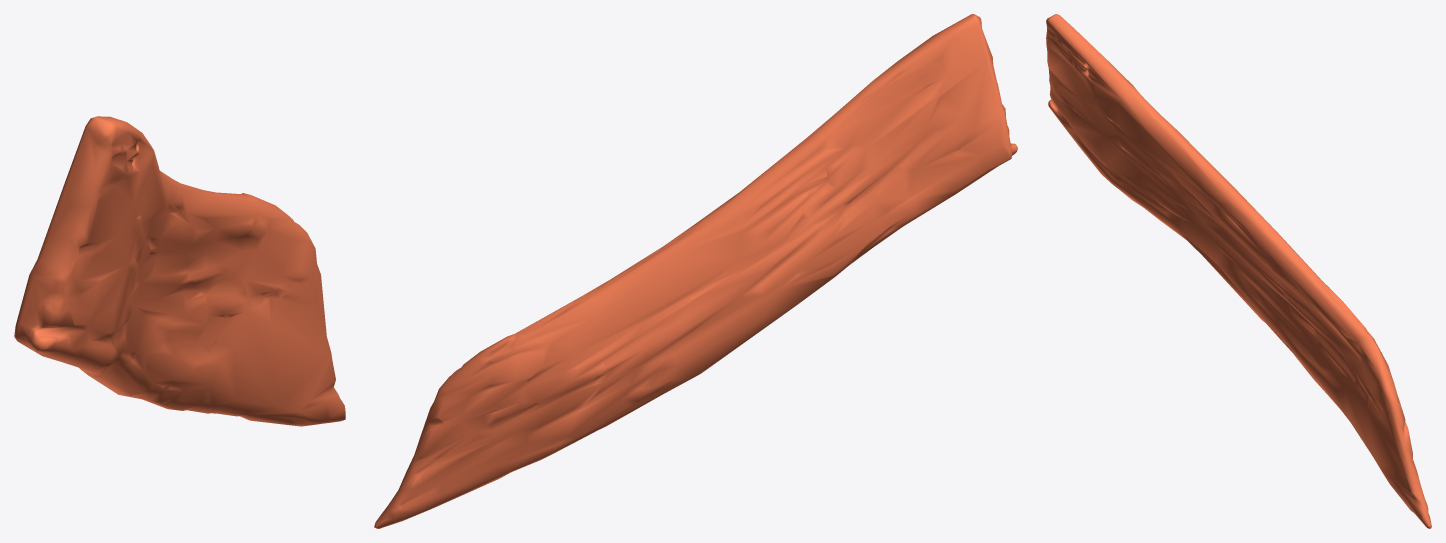
File: Teres_major_muscle.r_Generated_Mesh_From_X3D.160.glb
3 renders of one model, left to right at view 1: azimuth 30°, elevation 25°; view 2: azimuth 150°, elevation 25°; view 3: azimuth 270°, elevation 25°, orthographic. The views are drawn at different scales.
Visible parts, largest first — view 1: Teres_major_muscle.r_Generated_Mesh_From_X3D.160; view 2: Teres_major_muscle.r_Generated_Mesh_From_X3D.160; view 3: Teres_major_muscle.r_Generated_Mesh_From_X3D.160.
Part boxes in pixels (x1=…): Teres_major_muscle.r_Generated_Mesh_From_X3D.160: x1=14, y1=116, x2=345, y2=426; Teres_major_muscle.r_Generated_Mesh_From_X3D.160: x1=374, y1=14, x2=1017, y2=528; Teres_major_muscle.r_Generated_Mesh_From_X3D.160: x1=1046, y1=14, x2=1431, y2=528.
Size of the model in its own units: 0.0857 by 0.086 by 0.0827.
